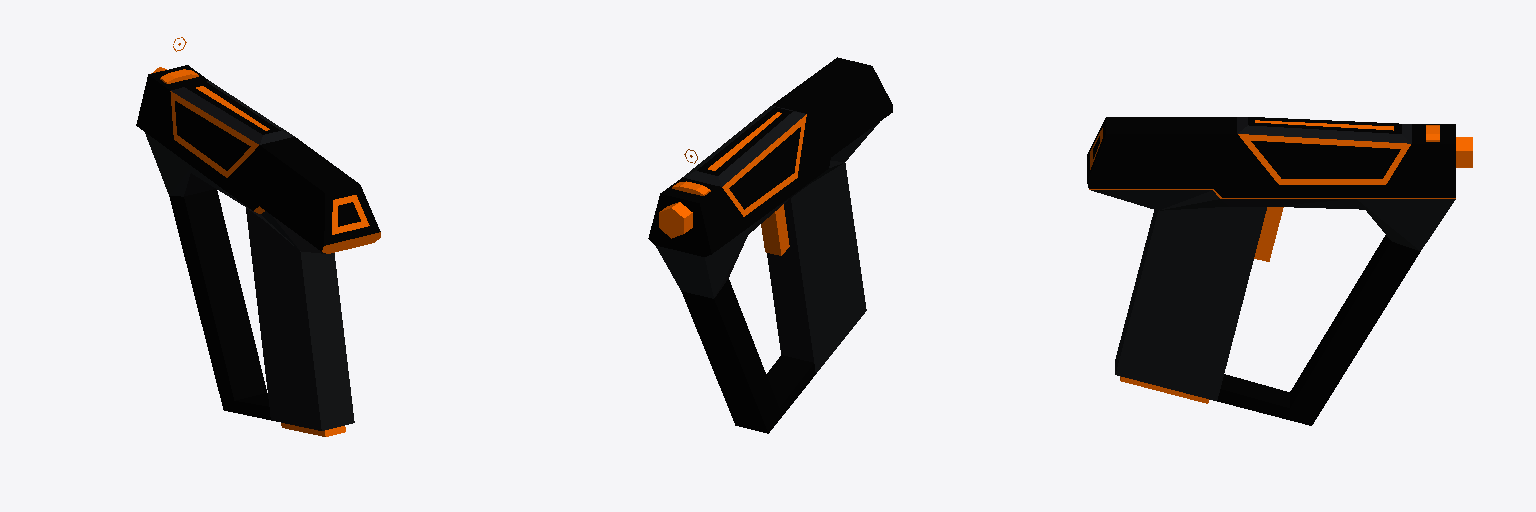
File: pistol.obj
3 renders of one model, left to right at view 1: azimuth 30°, elevation 25°; view 2: azimuth 150°, elevation 25°; view 3: azimuth 270°, elevation 25°, orthographic.
Visible parts, largest first — view 1: Mesh1 Group1 Model; view 2: Mesh1 Group1 Model; view 3: Mesh1 Group1 Model.
Part boxes in pixels (left/top/right/bottom): Mesh1 Group1 Model: left=136, top=65, right=380, bottom=436; Mesh1 Group1 Model: left=648, top=57, right=892, bottom=433; Mesh1 Group1 Model: left=1087, top=117, right=1472, bottom=425.
Bounding box in the file's own units: 0.0434 × 0.2114 × 0.2281.